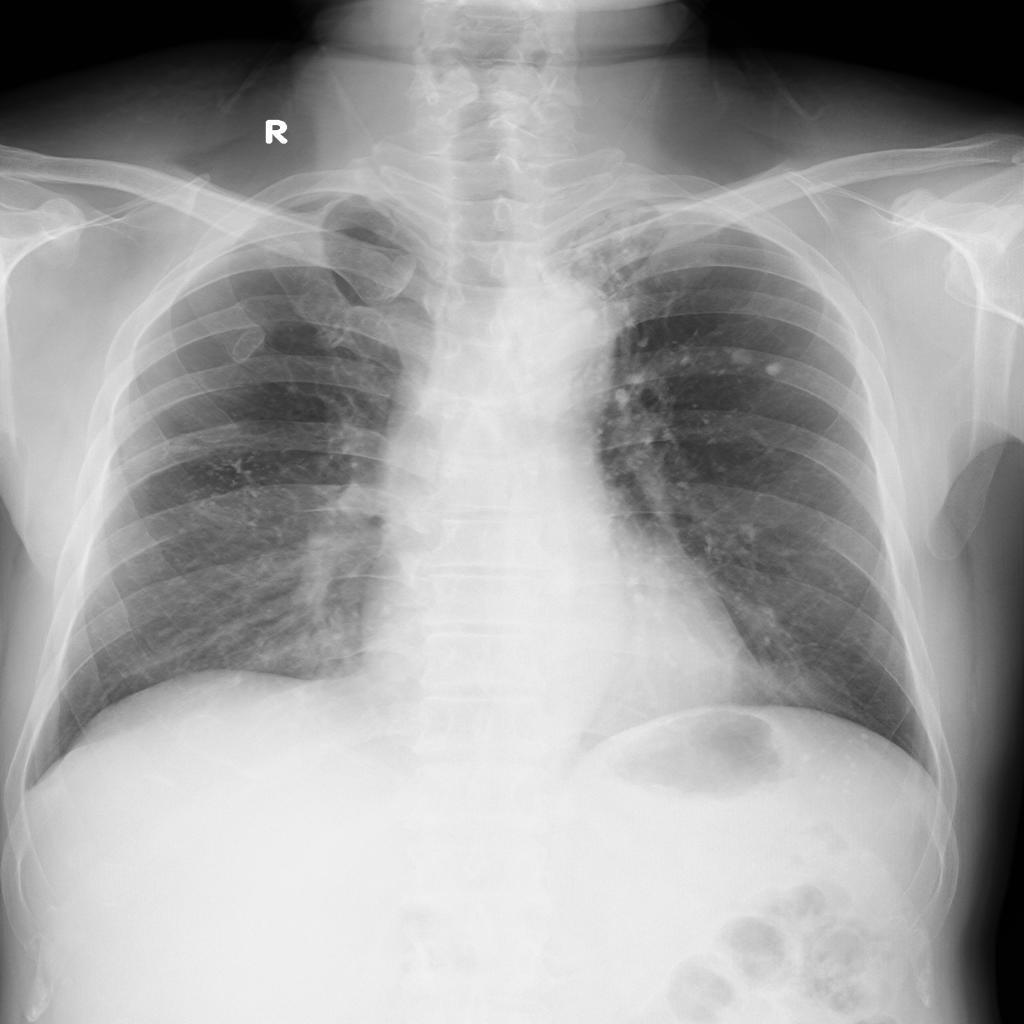Nodule: (725, 348, 752, 368)
